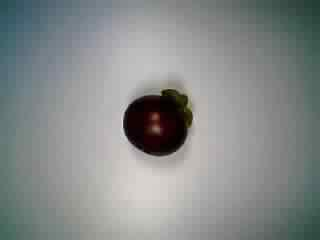mangosteen: (117, 83, 194, 158)
